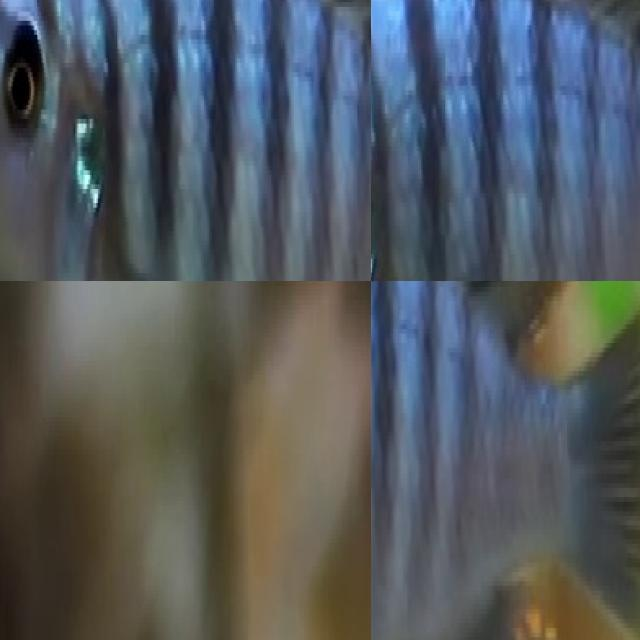fish: (0, 0, 371, 281), (371, 281, 640, 640), (371, 0, 640, 281)
